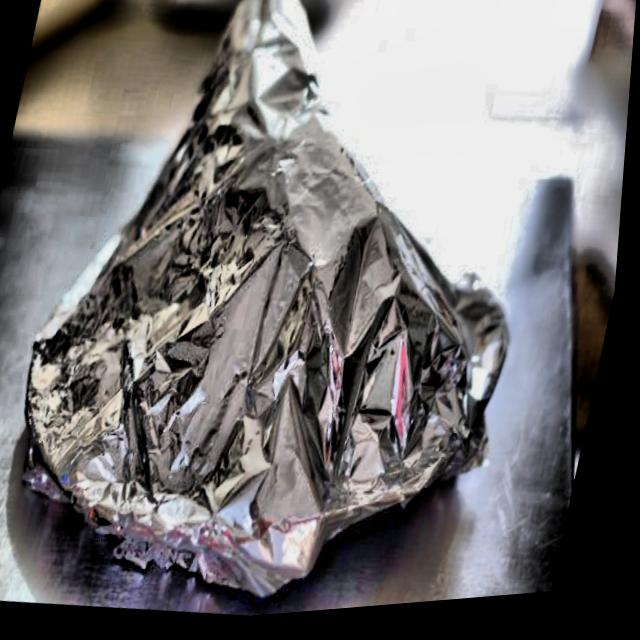Foil: (0, 0, 590, 639)
